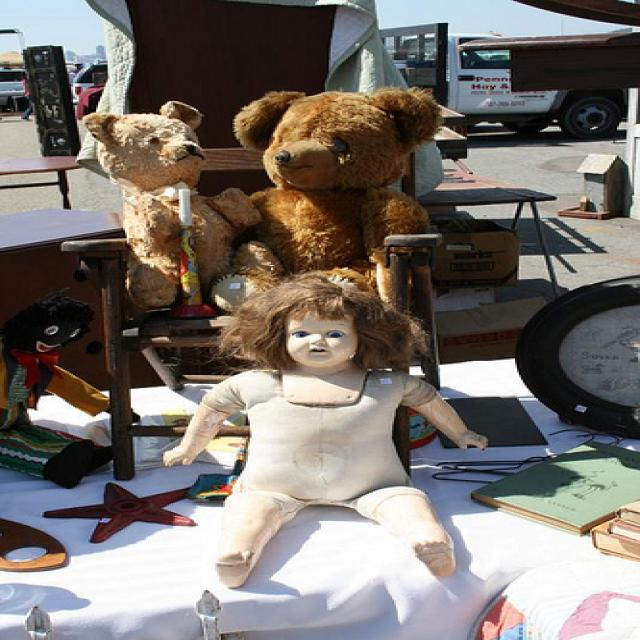Vehicle: (375, 1, 639, 138), (71, 60, 109, 105), (0, 70, 26, 106)
